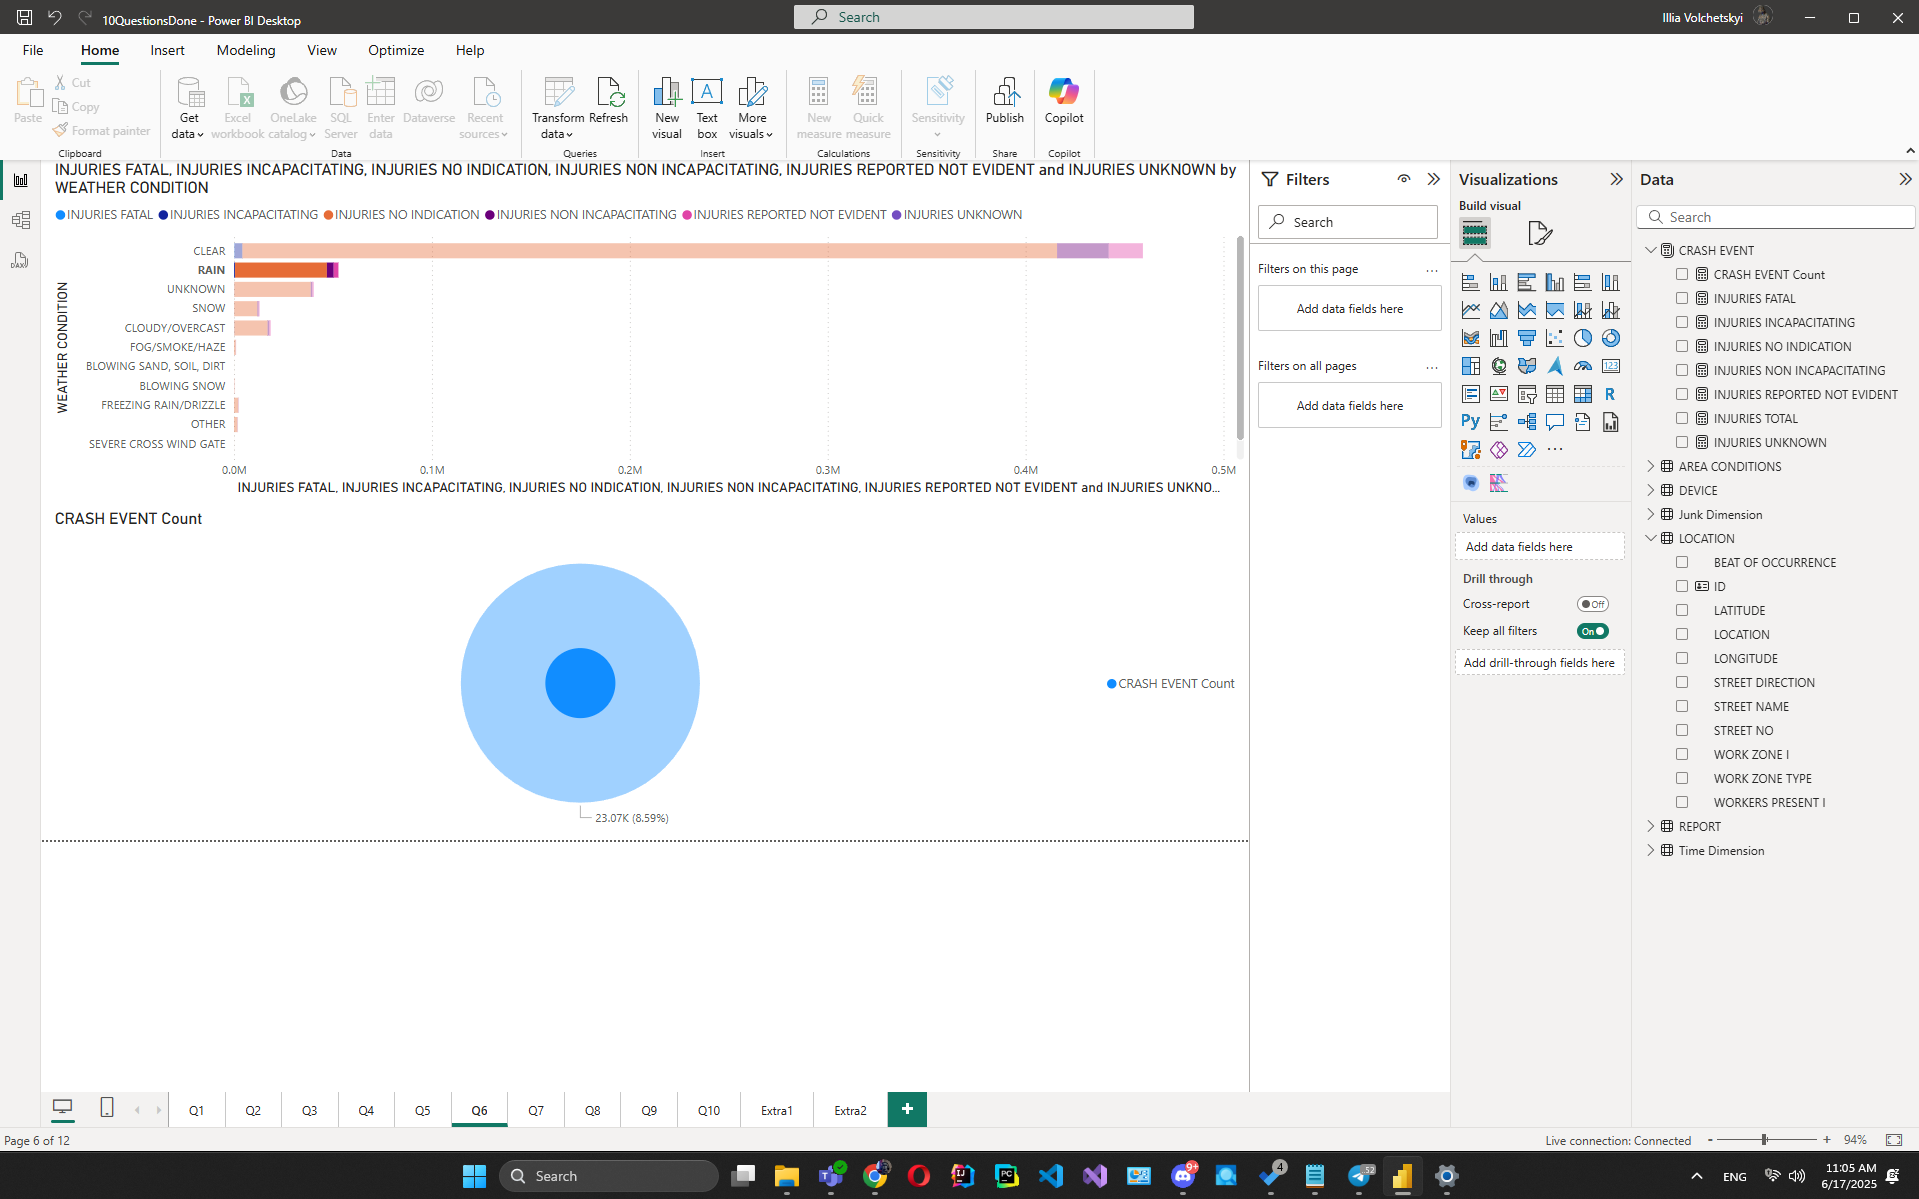

The dashboard page shown, as its layout file describes it:
{"tool":"powerbi","page":{"name":"Q6","canvas":[1280,720],"ordinal":5},"visuals":[{"type":"barChart","title":"Weather based injuries","fields":{"Category":["AREA CONDITIONS.WEATHER CONDITION"],"Y":["CRASH EVENT.INJURIES FATAL","CRASH EVENT.INJURIES INCAPACITATING","CRASH EVENT.INJURIES NO INDICATION","CRASH EVENT.INJURIES NON INCAPACITATING","CRASH EVENT.INJURIES REPORTED NOT EVIDENT","CRASH EVENT.INJURIES UNKNOWN"]},"box":[9.5,0,1270.5,359.7],"z":0},{"type":"pieChart","title":"Percentage of all injuries","fields":{"Y":["CRASH EVENT.CRASH EVENT Count","CRASH EVENT.INJURIES FATAL","CRASH EVENT.INJURIES INCAPACITATING","CRASH EVENT.INJURIES NO INDICATION","CRASH EVENT.INJURIES NON INCAPACITATING","CRASH EVENT.INJURIES REPORTED NOT EVIDENT","CRASH EVENT.INJURIES TOTAL","CRASH EVENT.INJURIES UNKNOWN"]},"box":[10,370,1270,350],"z":1000}]}

Visuals, with their boxes on the page's 1280x720 design canvas (x1, y1, x2, y2). These are canvas units, not pixel positions in the 1919x1199 screenshot, which may show the page scaled, cropped or inside an application window:
"Weather based injuries" barChart: (10, 0, 1280, 360)
"Percentage of all injuries" pieChart: (10, 370, 1280, 720)
